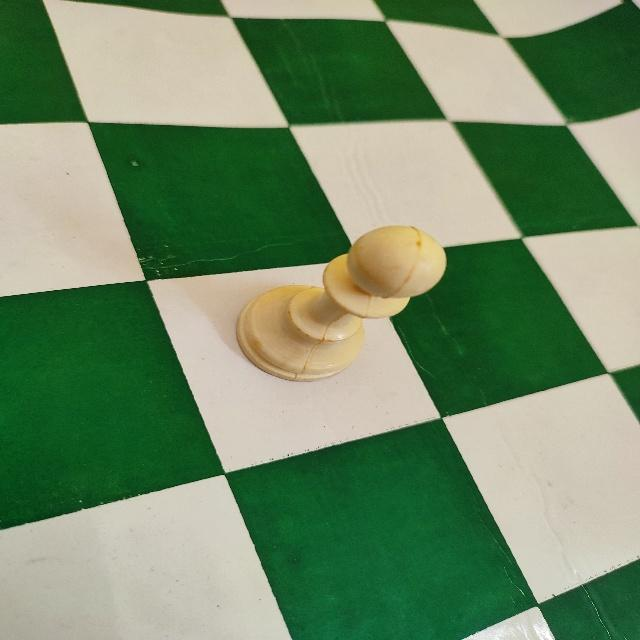Pawn: (232, 221, 450, 386)
